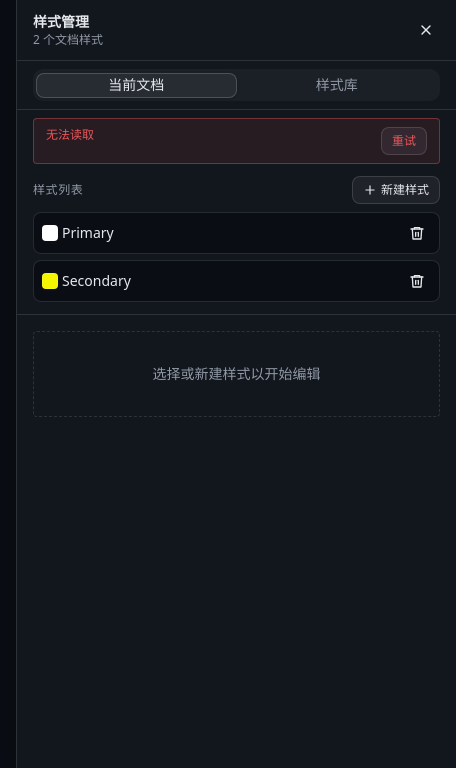
Test: StyleManager library integration › disables document-to-library copy on load failure
This screenshot has width=456, height=768.
Check: the message shows "无法读取", box [46, 126, 94, 143]
Click the button "Primary".
click(88, 232)  # box [33, 212, 440, 254]
(page scrolled)
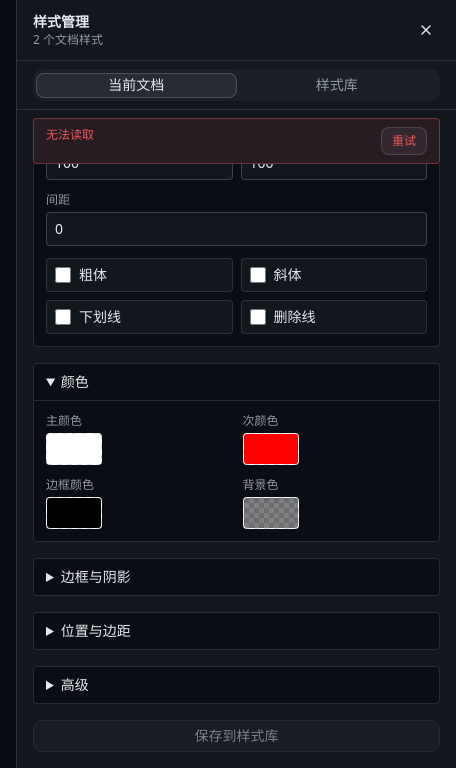
Check: the button "保存到样式库" is disabled, box [33, 720, 440, 752]
